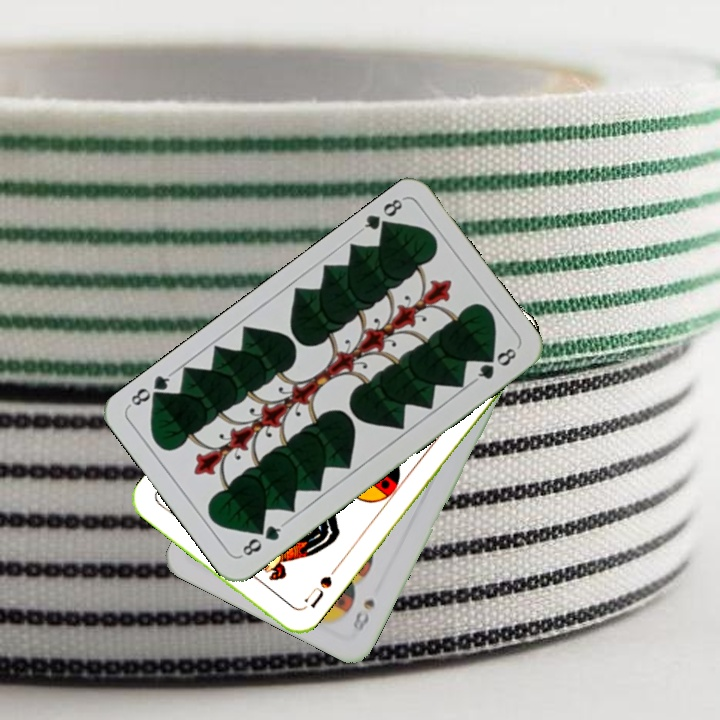G8: (355, 193, 406, 237), (236, 519, 287, 560)
S8: (348, 594, 378, 636)
SU: (296, 572, 335, 613)
